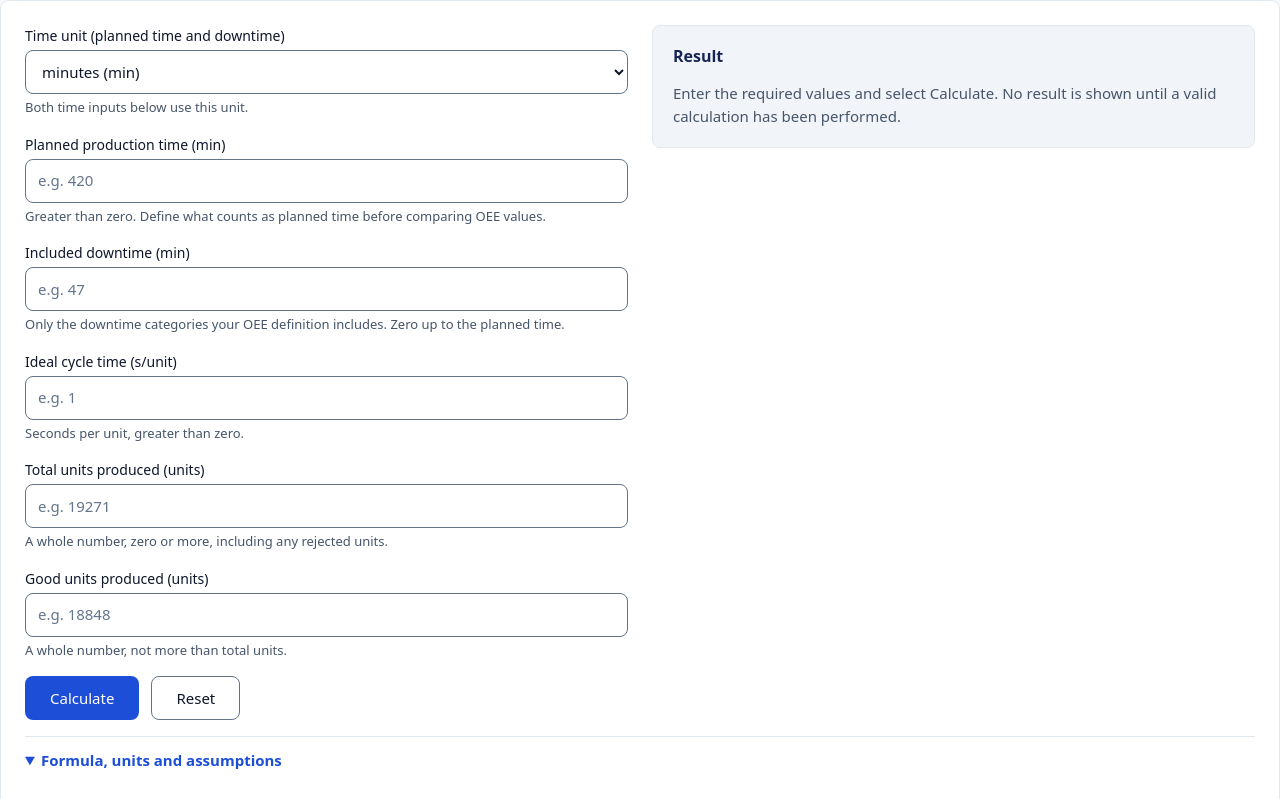
Test: OeeCalculator › marks Performance and OEE as not available when run time is zero
In the field labelled "Planned production time (min)": coordinates (326, 180) x1=25 y1=158 x2=628 y2=202, type "420"
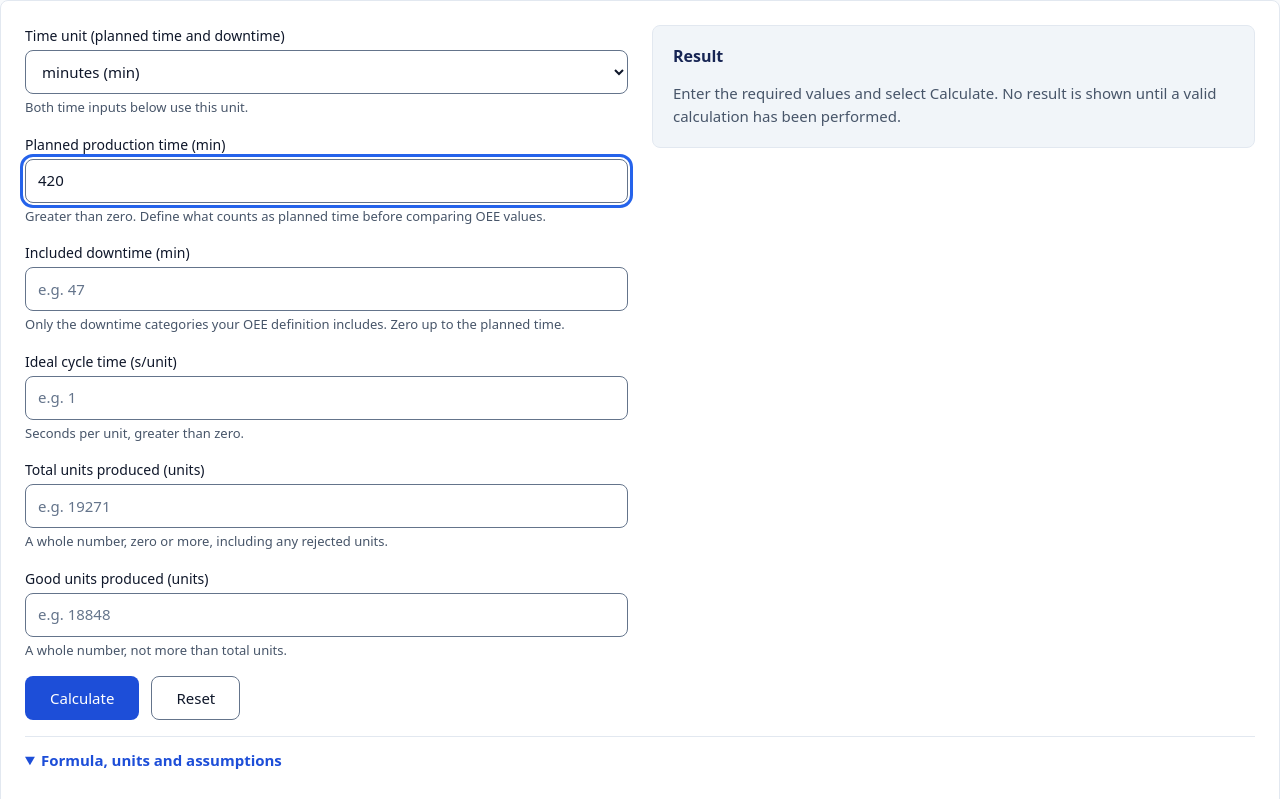
In the field labelled "Included downtime (min)": coordinates (326, 289) x1=25 y1=267 x2=628 y2=311, type "420"
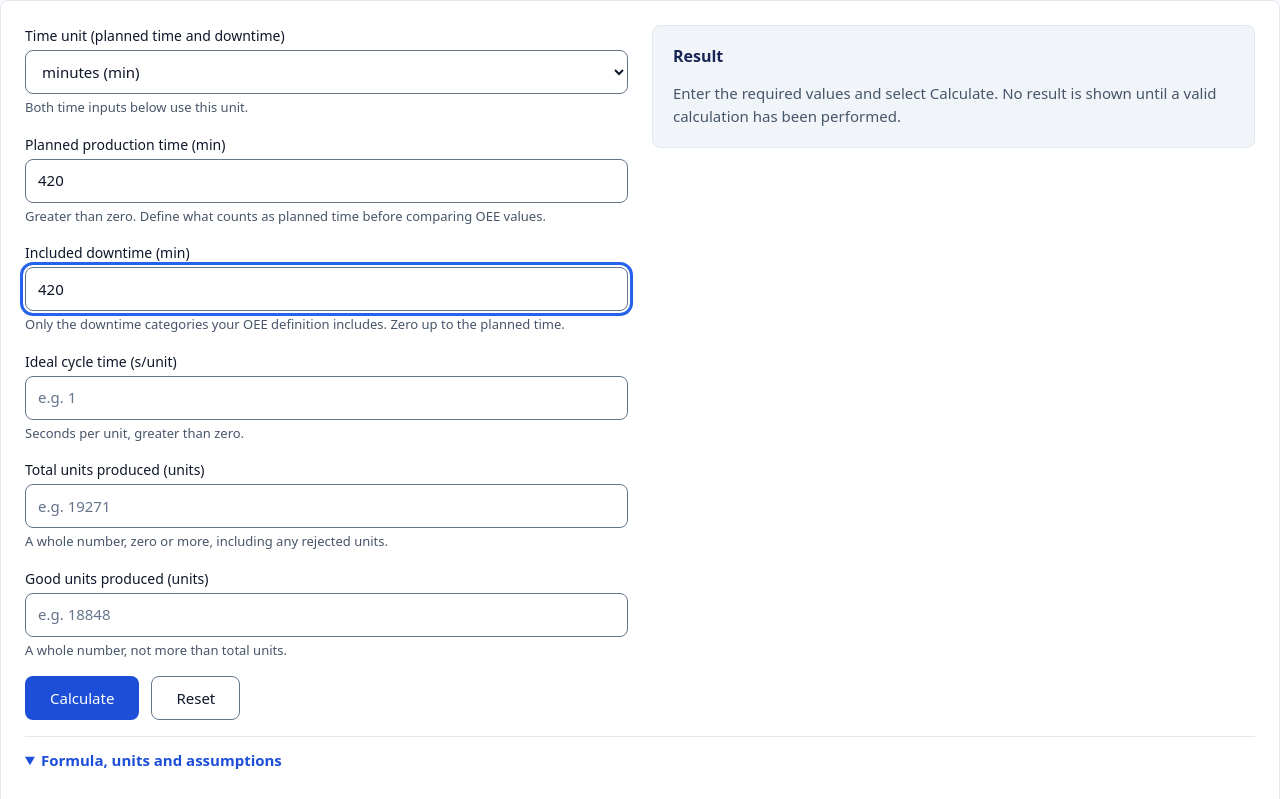
In the field labelled "Ideal cycle time (s/unit)": coordinates (326, 398) x1=25 y1=376 x2=628 y2=420, type "1"
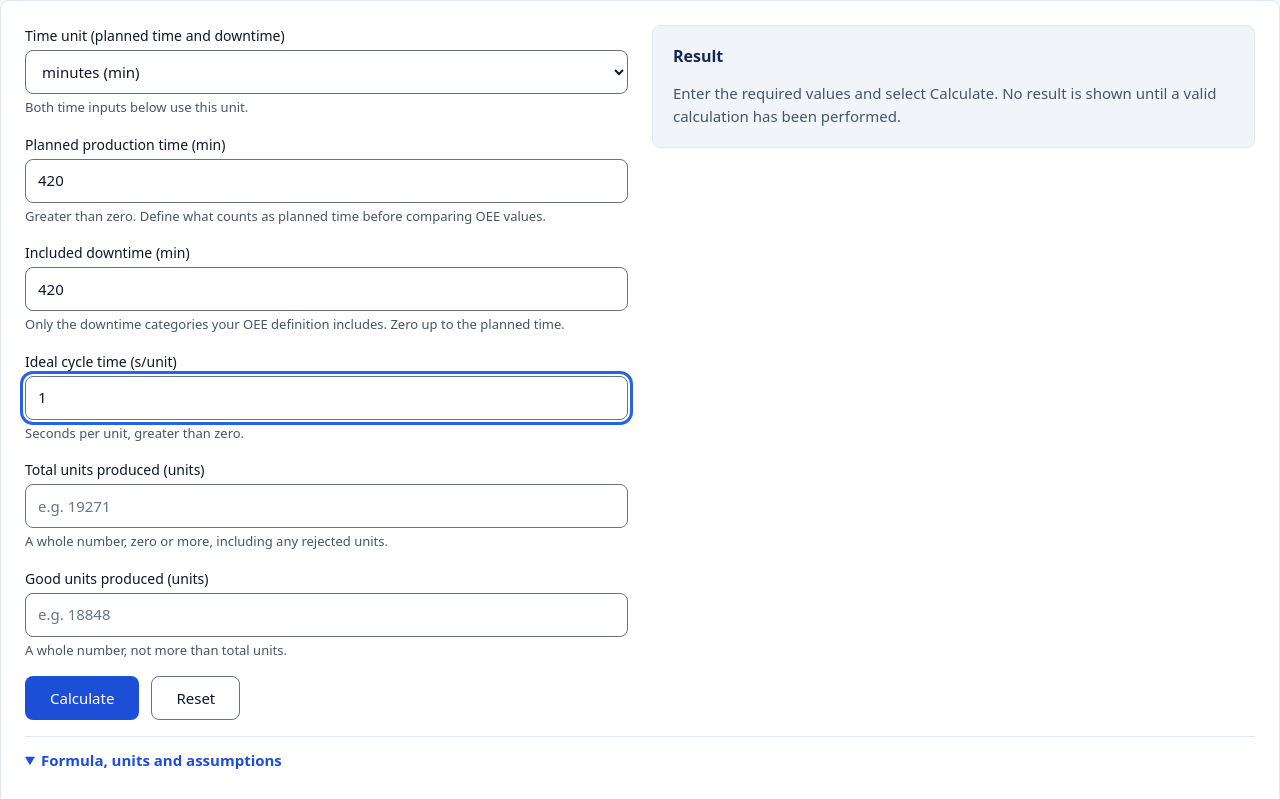
In the field labelled "Total units produced (units)": coordinates (326, 506) x1=25 y1=484 x2=628 y2=528, type "19271"
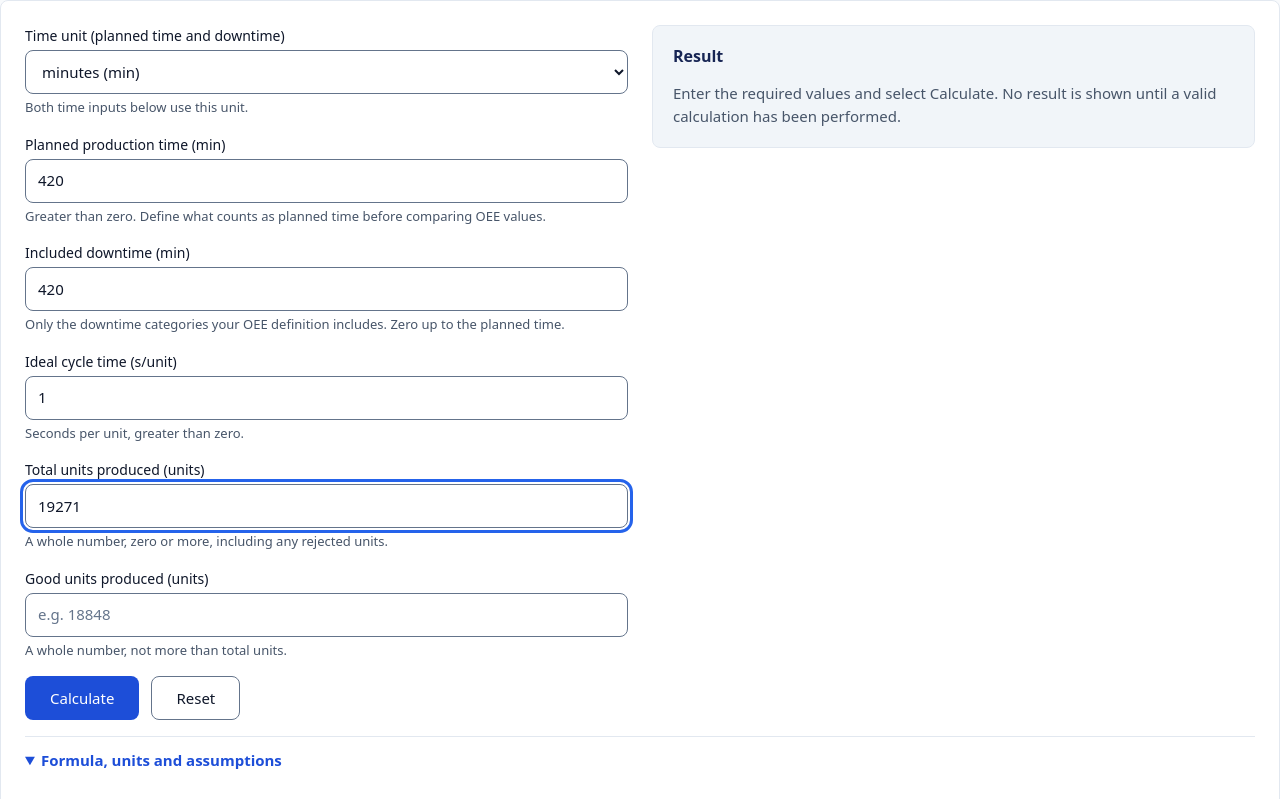
In the field labelled "Good units produced (units)": coordinates (326, 614) x1=25 y1=592 x2=628 y2=636, type "18848"
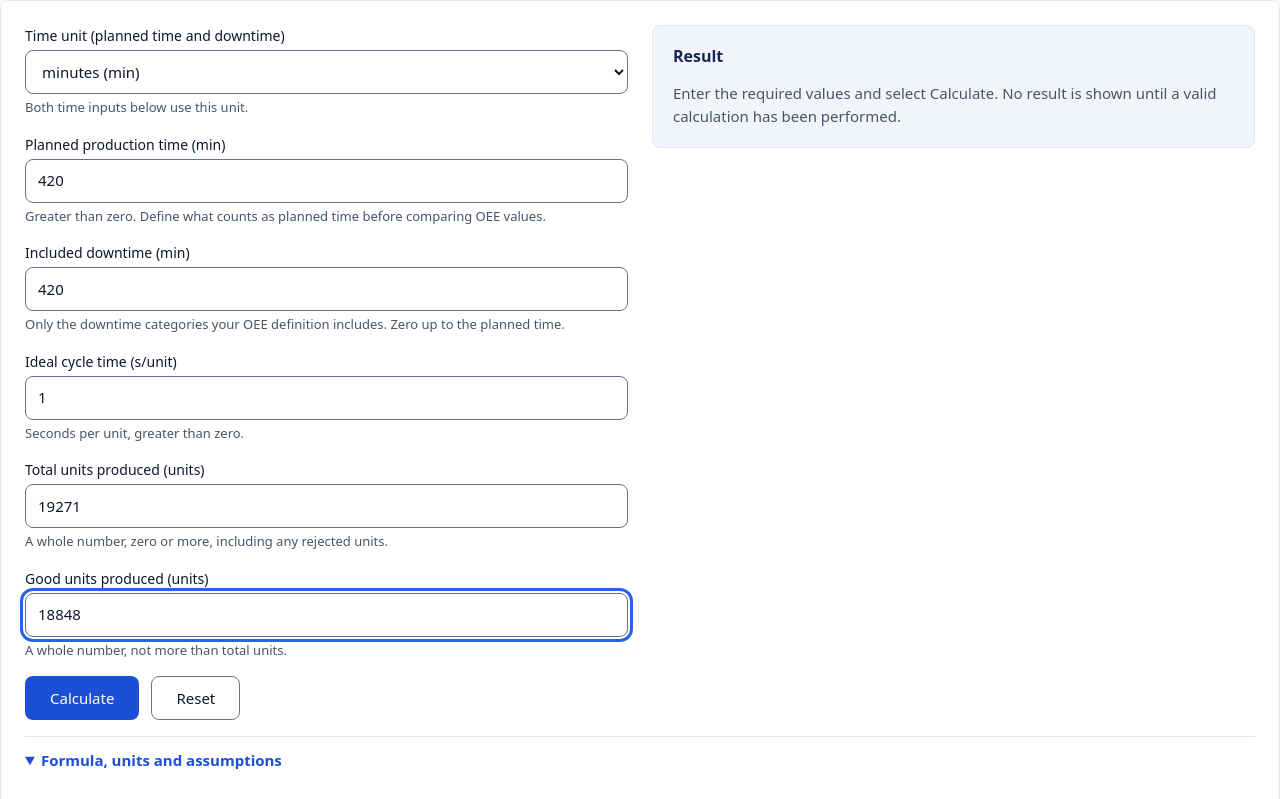
Click the button "Calculate": coordinates (82, 698) x1=25 y1=676 x2=139 y2=720
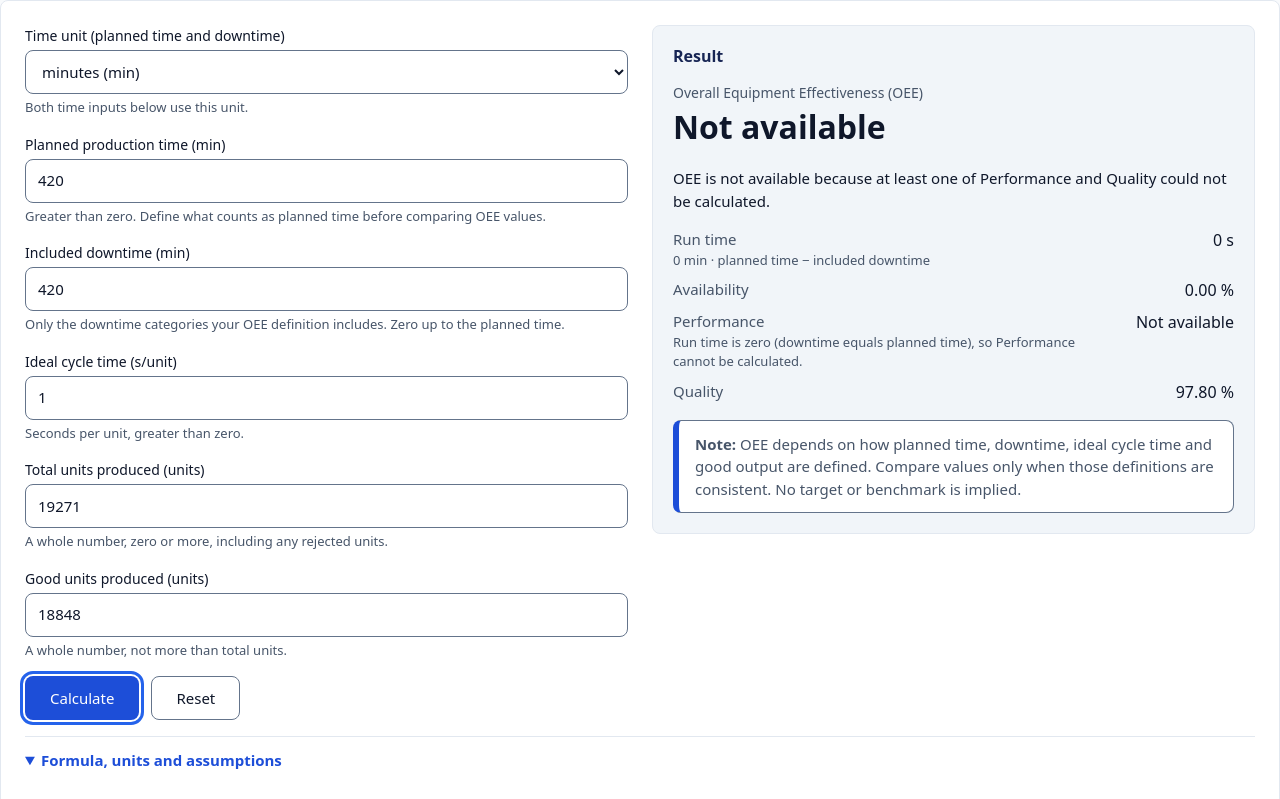
Expected: the text "Not available" below "Overall Equipment Effectiveness (OEE)" is shown, x1=673 y1=105 x2=886 y2=148
Expected: the text "Run time is zero" is shown, x1=673 y1=332 x2=1075 y2=370
